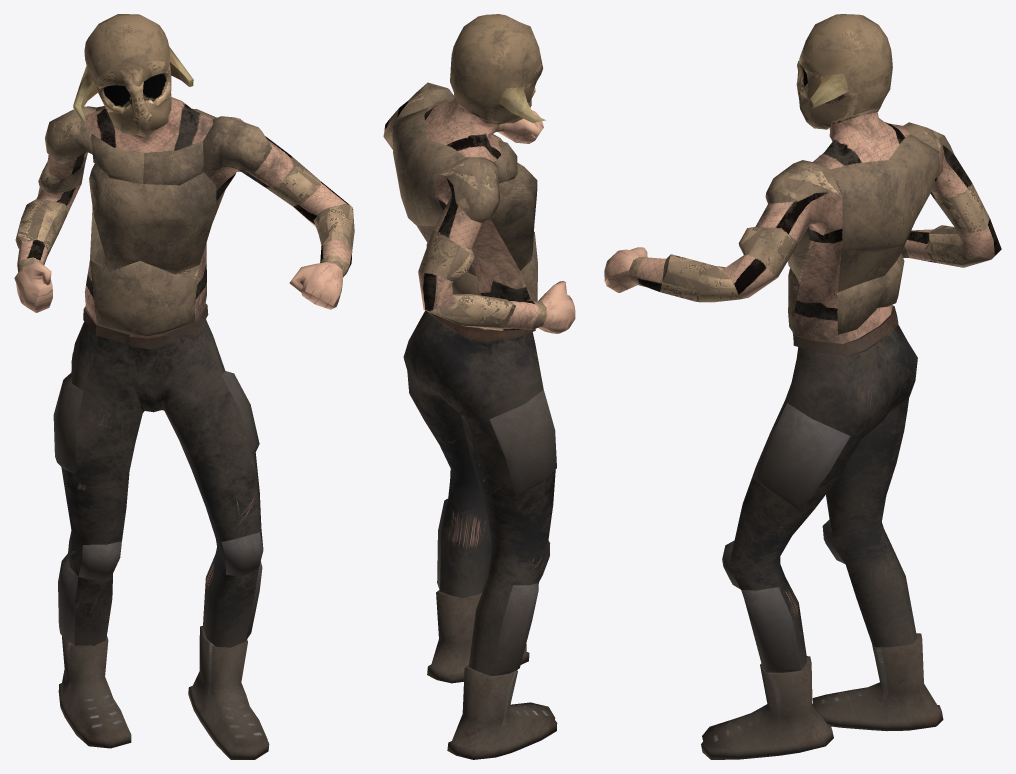
Rendered from Anim_ataque_d2_npc1.0015.obj.
3 renders of one model, left to right at view 1: azimuth 30°, elevation 25°; view 2: azimuth 150°, elevation 25°; view 3: azimuth 270°, elevation 25°, orthographic.
Parts seen in each view (by area): view 1: NPC2; view 2: NPC2; view 3: NPC2.
Boxes of the visible parts, bbox=[...] form: NPC2: bbox=[14, 14, 354, 759]; NPC2: bbox=[383, 14, 575, 759]; NPC2: bbox=[604, 14, 1001, 759].
Size of the model in its own units: 3.59 by 9.46 by 4.78.
